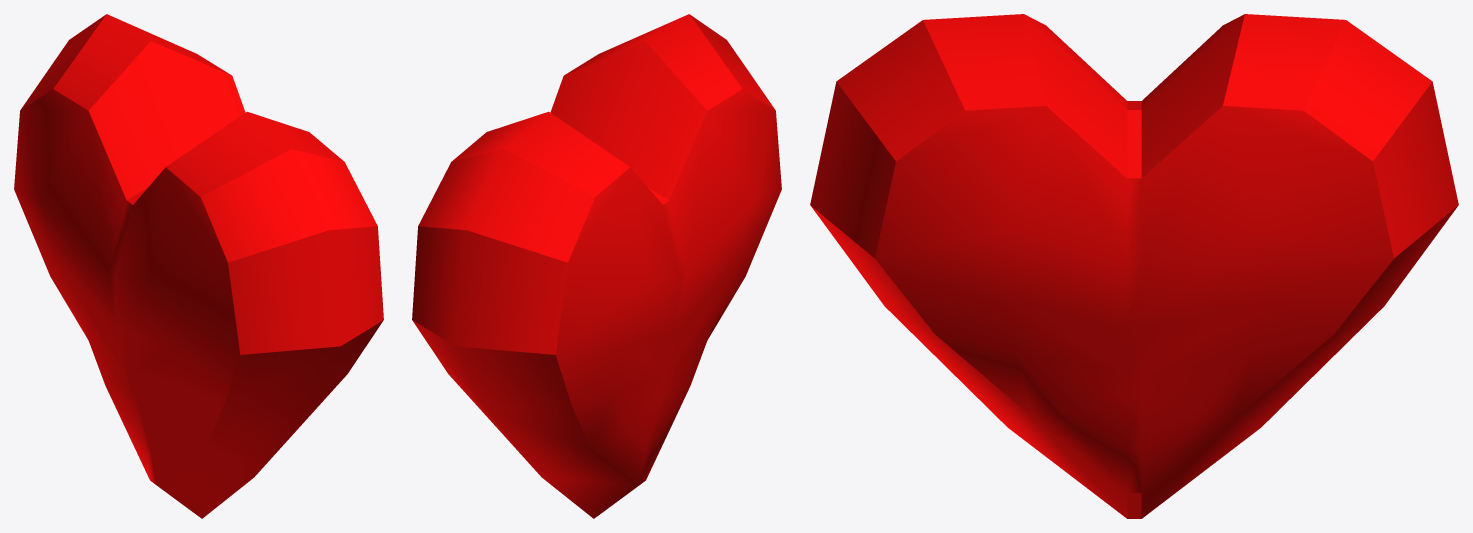
The model's file is corazon.fbx.
The picture shows the model from 3 angles, left to right: view 1: azimuth 30°, elevation 25°; view 2: azimuth 150°, elevation 25°; view 3: azimuth 270°, elevation 25°; orthographic projection. The views are drawn at different scales.
Visible parts, largest first — view 1: pCube1; view 2: pCube1; view 3: pCube1.
Boxes of the visible parts, x1,y1,x2,y2 form: pCube1: [14, 14, 383, 518]; pCube1: [412, 14, 781, 518]; pCube1: [810, 14, 1458, 518].
Size of the model in its own units: 0.9994 by 2.01 by 2.34.
